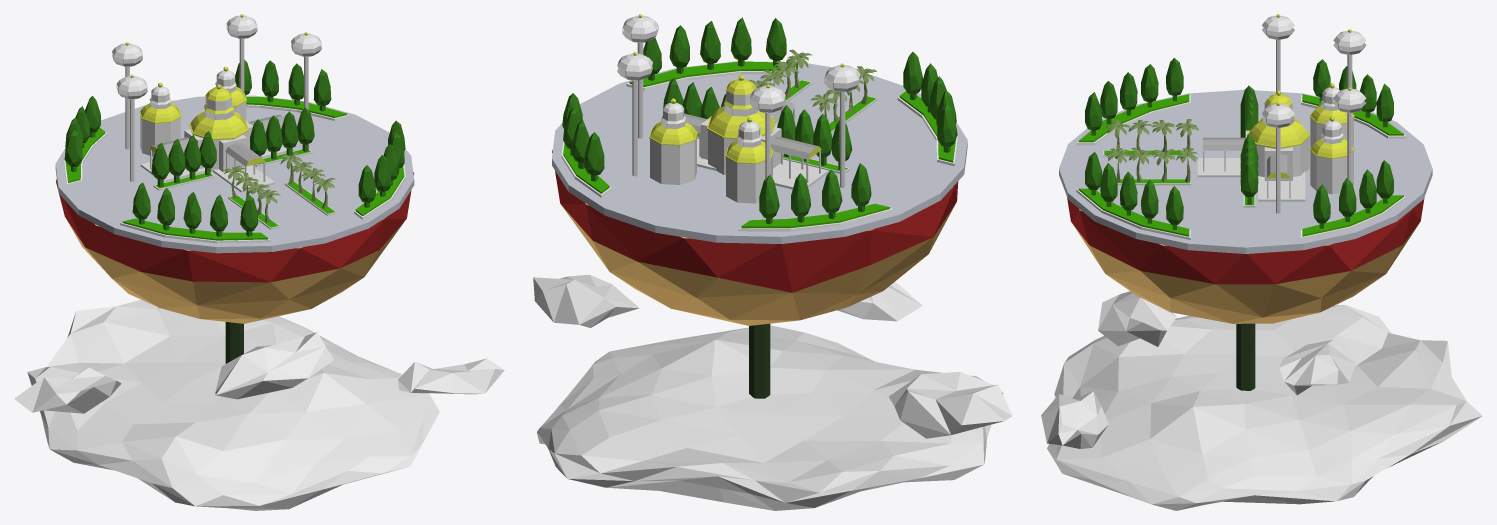
File: kamisama_no_shinden.gltf
3 views of the same model, side by side, from view 1: azimuth 30°, elevation 25°; view 2: azimuth 150°, elevation 25°; view 3: azimuth 270°, elevation 25° (orthographic). The views are drawn at different scales.
Parts seen in each view (by area): view 1: Icosphere.009, Icosphere.004, Cube.004, Icosphere.002, Icosphere.001, Icosphere.015, Icosphere.011, Icosphere.006, Icosphere.017, Plane.010, Sphere.014, Icosphere.007 (+6 smaller); view 2: Icosphere.009, Icosphere.004, Icosphere.002, Cube.004, Icosphere.001, Icosphere.011, Icosphere.013, Icosphere.006, Sphere.017, Sphere.021, Plane.010, Icosphere.007 (+15 smaller); view 3: Icosphere.009, Icosphere.004, Cube.004, Icosphere.002, Icosphere.001, Icosphere.006, Icosphere.015, Icosphere.017, Icosphere.013, Plane.010, Cube.002, Sphere.017 (+11 smaller).
Part boxes in pixels (x1,y1,x2,y2): Icosphere.009: (27, 299, 439, 510); Icosphere.004: (55, 95, 414, 253); Cube.004: (64, 59, 405, 236); Icosphere.002: (56, 172, 414, 282); Icosphere.001: (66, 217, 405, 323); Icosphere.015: (215, 332, 333, 399); Icosphere.011: (14, 367, 121, 413); Icosphere.006: (65, 97, 404, 240); Icosphere.017: (398, 358, 504, 394); Plane.010: (223, 151, 336, 222); Sphere.014: (189, 87, 248, 140); Icosphere.007: (64, 104, 405, 243); Icosphere.009: (537, 325, 1003, 510); Icosphere.004: (552, 61, 967, 243); Icosphere.002: (552, 150, 958, 292); Cube.004: (562, 17, 957, 224); Icosphere.001: (561, 187, 956, 325); Icosphere.011: (889, 372, 1012, 438); Icosphere.013: (533, 274, 639, 327); Icosphere.006: (563, 61, 955, 228); Sphere.017: (650, 102, 696, 184); Sphere.021: (726, 121, 772, 203); Plane.010: (749, 49, 876, 122); Icosphere.007: (561, 65, 957, 231); Icosphere.009: (1047, 305, 1482, 510); Icosphere.004: (1059, 89, 1432, 253); Cube.004: (1085, 58, 1393, 229); Icosphere.002: (1067, 197, 1424, 284); Icosphere.001: (1072, 209, 1419, 323); Icosphere.006: (1078, 94, 1403, 236); Icosphere.015: (1098, 291, 1176, 346); Icosphere.017: (1041, 391, 1108, 448); Icosphere.013: (1279, 339, 1355, 395); Plane.010: (1105, 119, 1198, 182); Cube.002: (1197, 158, 1305, 201); Sphere.017: (1310, 120, 1353, 194).
Bounding box in the file's own units: 2.59 × 2.31 × 2.4.
